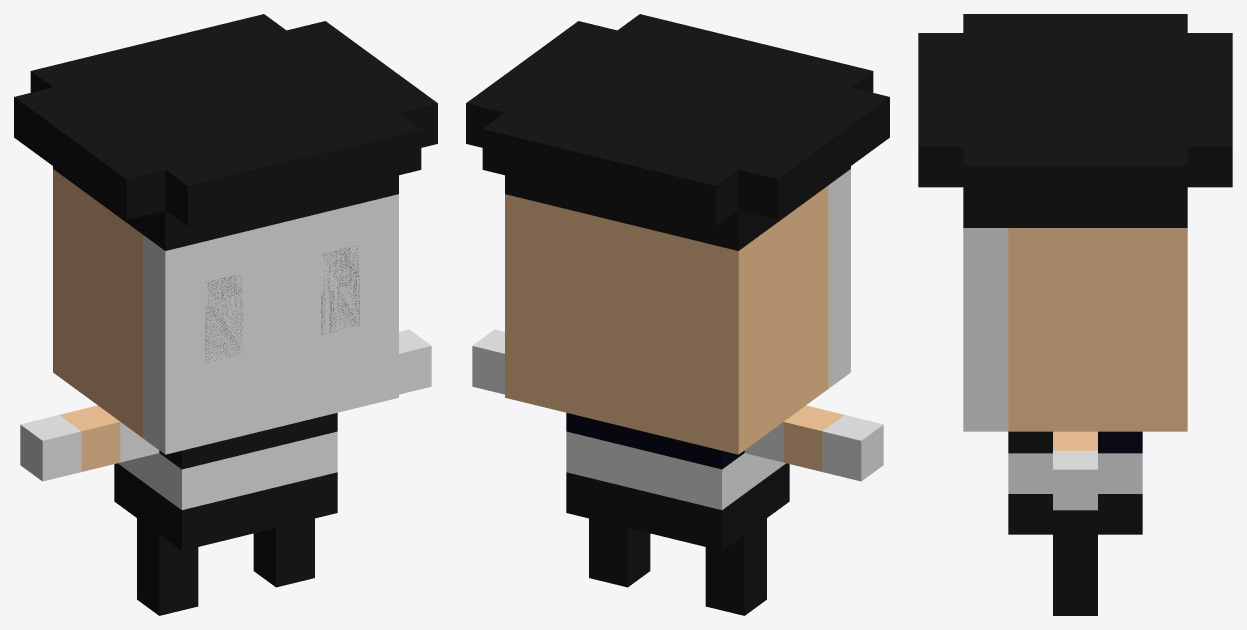
The picture shows the model from 3 angles, left to right: view 1: azimuth 30°, elevation 25°; view 2: azimuth 150°, elevation 25°; view 3: azimuth 270°, elevation 25°; orthographic projection.
Visible parts, largest first — view 1: Object_0; view 2: Object_0; view 3: Object_0.
Part boxes in pixels (<box>): Object_0: <box>14,14,437,615</box>; Object_0: <box>466,14,889,615</box>; Object_0: <box>918,14,1232,615</box>.
Size of the model in its own units: 1.33 by 1.6 by 0.9333.
Materials: 1 (1 with a texture image).
